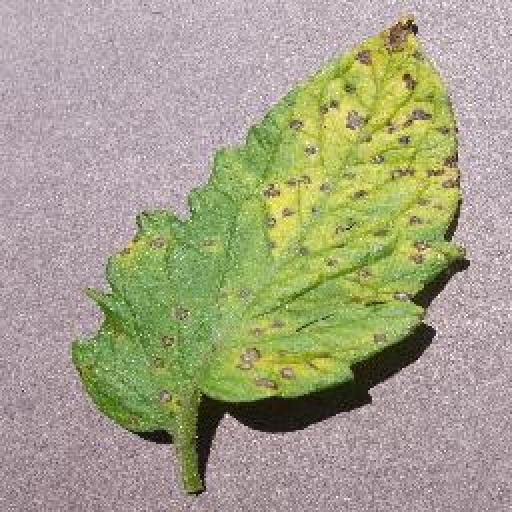Septoria: (74, 15, 465, 429)
